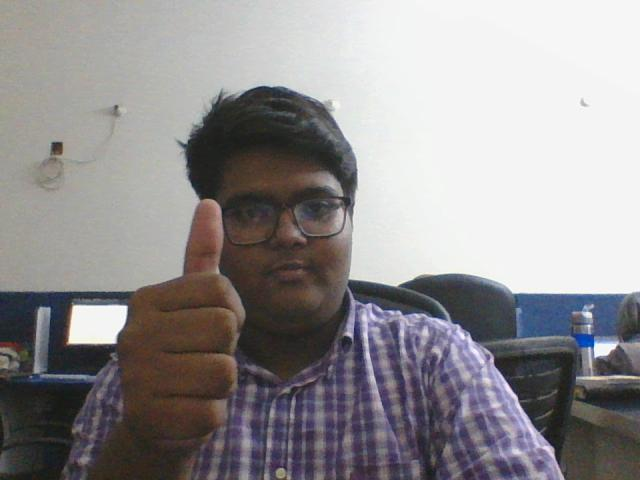thumbs-up: (113, 200, 255, 447)
